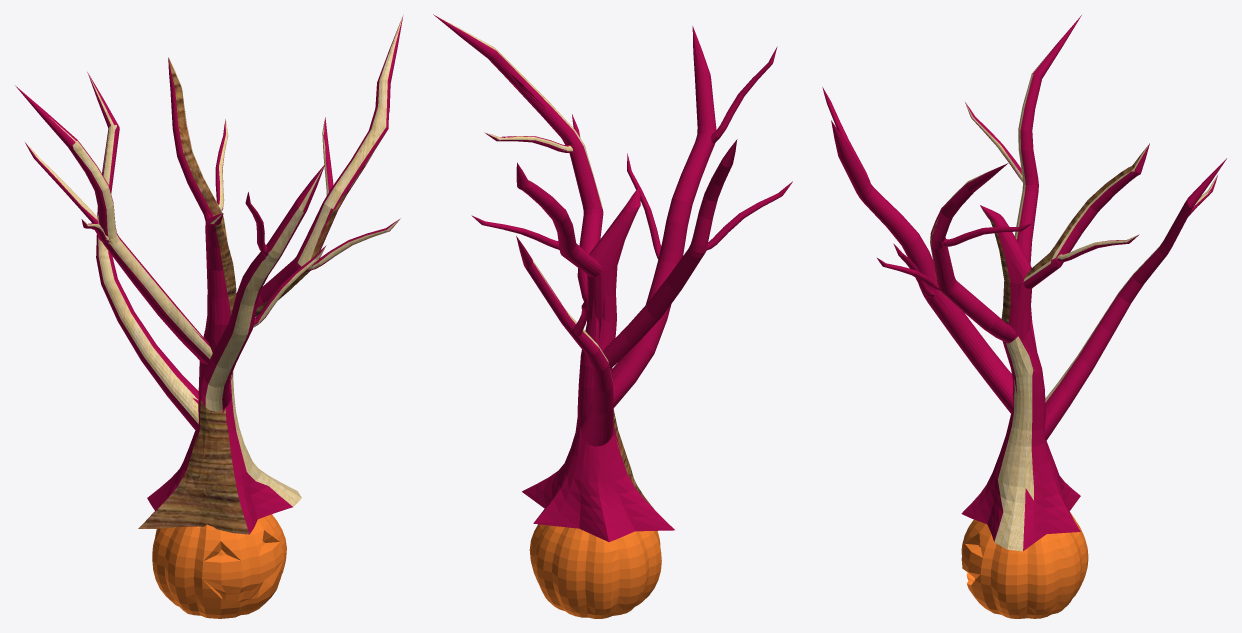
File: Bare tree.gltf
3 renders of one model, left to right at view 1: azimuth 30°, elevation 25°; view 2: azimuth 150°, elevation 25°; view 3: azimuth 270°, elevation 25°, orthographic. The views are drawn at different scales.
Size of the model in its own units: 0.0943 by 0.141 by 0.0999.
3 materials, 2 textured.
